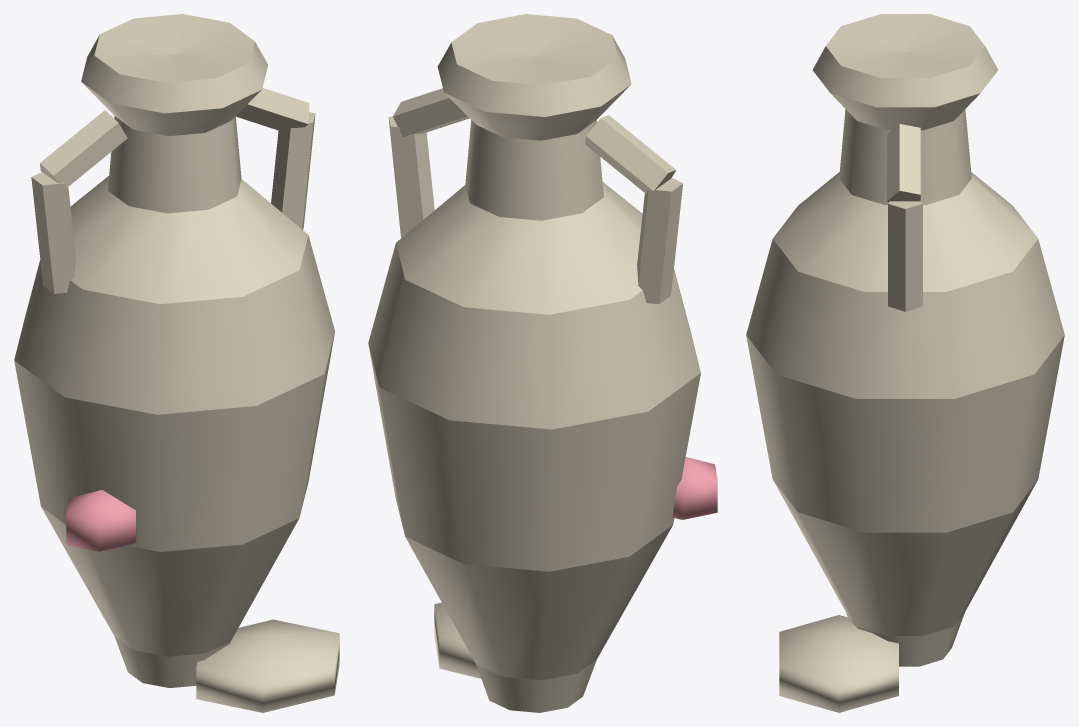
Rendered from sunken-city-and-underwater-ruins-amphora-upright-b7c16a7b__36974.glb.
3 renders of one model, left to right at view 1: azimuth 30°, elevation 25°; view 2: azimuth 150°, elevation 25°; view 3: azimuth 270°, elevation 25°, orthographic. The views are drawn at different scales.
Parts seen in each view (by area): view 1: amphora-upright; view 2: amphora-upright; view 3: amphora-upright.
Boxes of the visible parts, <box> form: amphora-upright: <box>14,14,339,712</box>; amphora-upright: <box>368,14,717,712</box>; amphora-upright: <box>746,14,1064,712</box>.
Bounding box in the file's own units: 0.4786 × 1.03 × 0.48.
